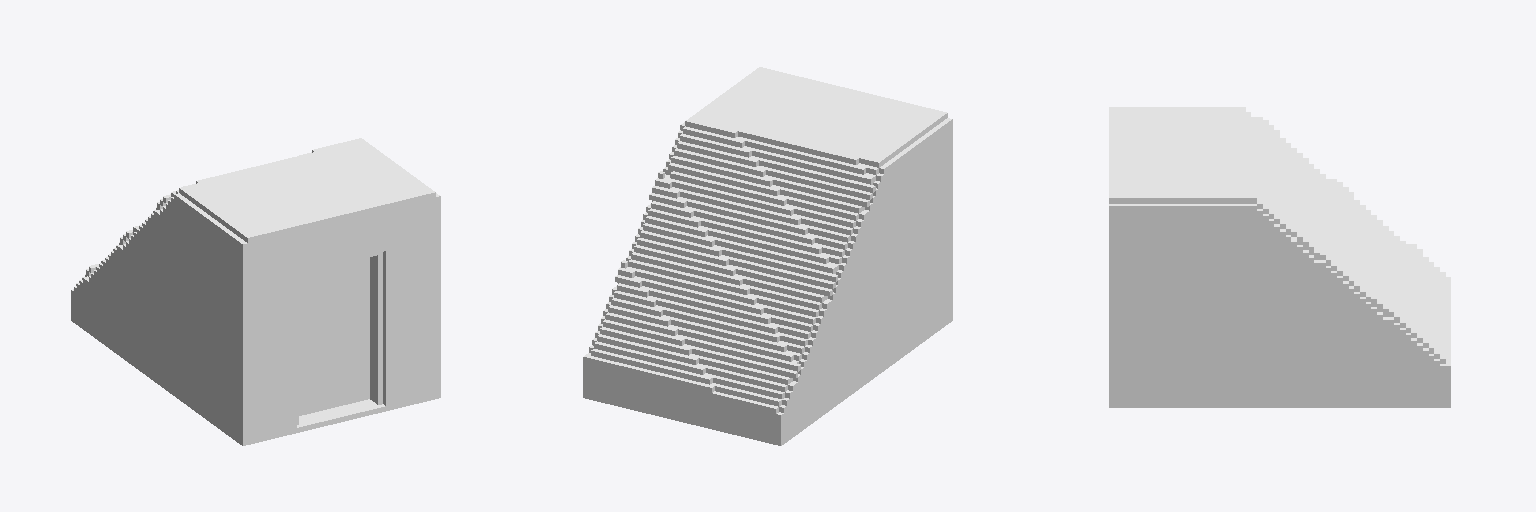
File: FirstDungeon.obj
3 renders of one model, left to right at view 1: azimuth 30°, elevation 25°; view 2: azimuth 150°, elevation 25°; view 3: azimuth 270°, elevation 25°, orthographic.
Parts seen in each view (by area): view 1: object 1; view 2: object 1; view 3: object 1.
Part boxes in pixels (x1,y1,x2,y2): object 1: (71,138,440,445); object 1: (583,67,952,445); object 1: (1109,107,1450,407).
Size of the model in its own units: 4 by 4 by 6.